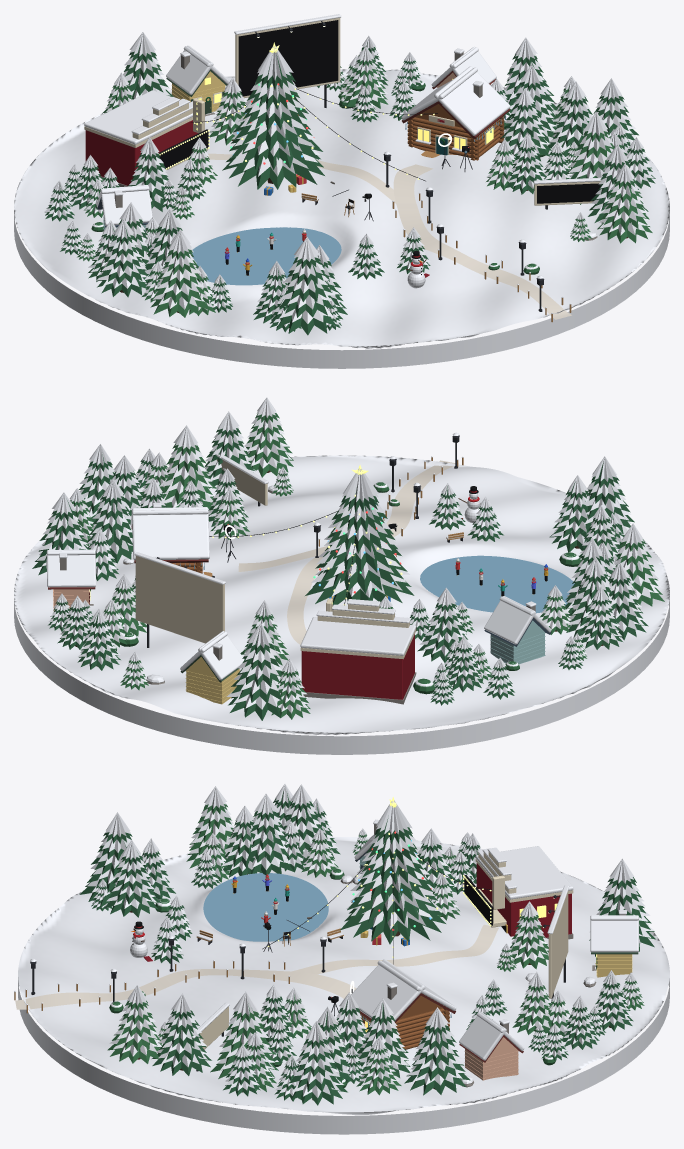
The model's file is village.glb.
3 renders of one model, top to bottom at view 1: azimuth 30°, elevation 25°; view 2: azimuth 150°, elevation 25°; view 3: azimuth 270°, elevation 25°, orthographic.
Parts seen in each view (by area): view 1: village, trees, screen_billboard, screen_sign, screen_marquee; view 2: village, trees; view 3: village, trees.
Boxes of the visible parts, x1=… form: village: x1=14, y1=14, x2=669, y2=368; trees: x1=44, y1=32, x2=655, y2=335; screen_billboard: x1=238, y1=20, x2=338, y2=96; screen_sign: x1=537, y1=183, x2=600, y2=203; screen_marquee: x1=159, y1=133, x2=206, y2=168; village: x1=14, y1=432, x2=669, y2=754; trees: x1=32, y1=397, x2=664, y2=720; village: x1=14, y1=797, x2=669, y2=1134; trees: x1=79, y1=784, x2=655, y2=1105.
Size of the model in its own units: 1.59 by 0.482 by 1.6.
